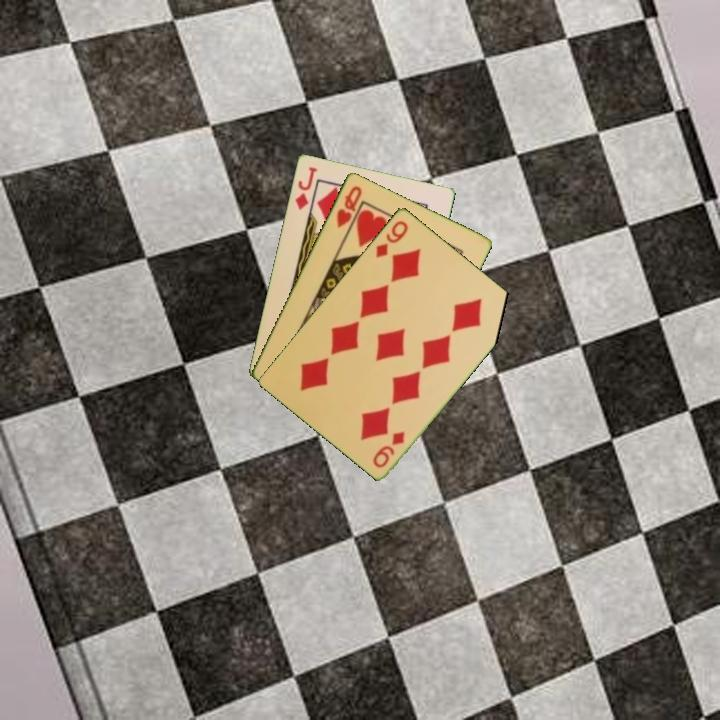9d: (372, 216, 411, 261), (369, 427, 408, 471)
Jd: (291, 163, 320, 213)
Qh: (333, 182, 365, 230)
